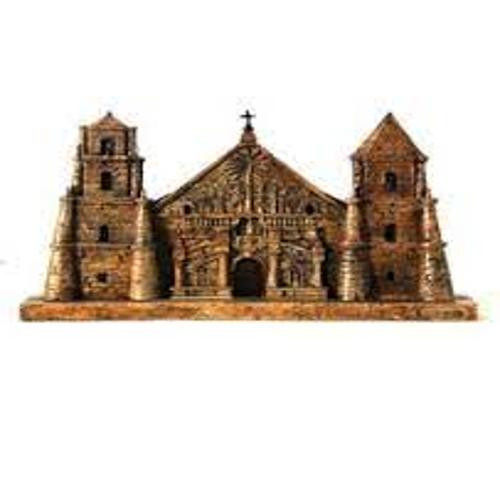Miagao Church: (21, 101, 484, 332)
